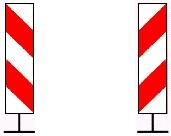Balizas de posicao: (4, 3, 34, 114), (138, 3, 167, 114)
